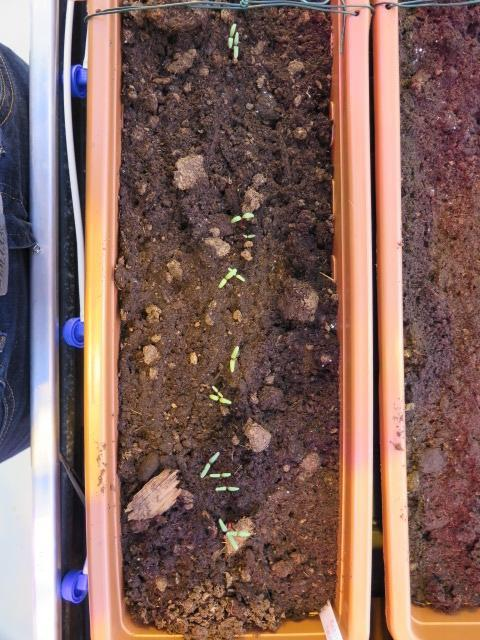crop: (225, 337, 240, 380)
